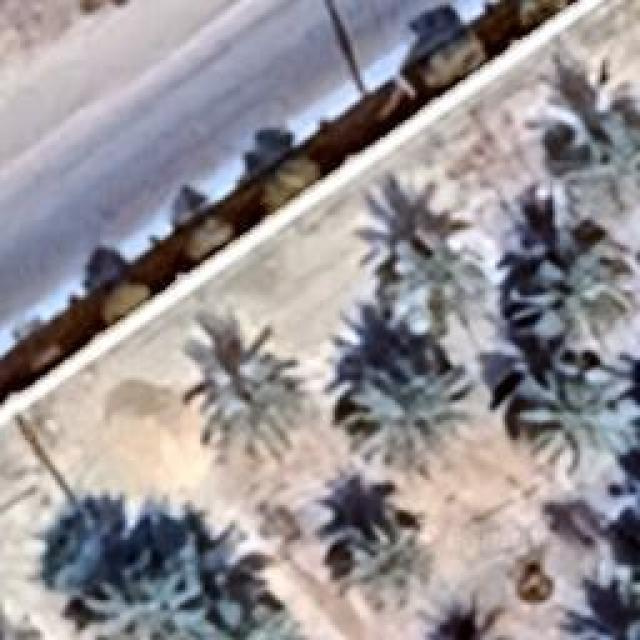PalmTree: (175, 318, 310, 462), (340, 352, 475, 470), (385, 232, 510, 358), (512, 367, 638, 485), (507, 252, 635, 352), (552, 82, 640, 212), (75, 560, 203, 638), (347, 515, 435, 610), (560, 555, 640, 640), (192, 592, 300, 632)
